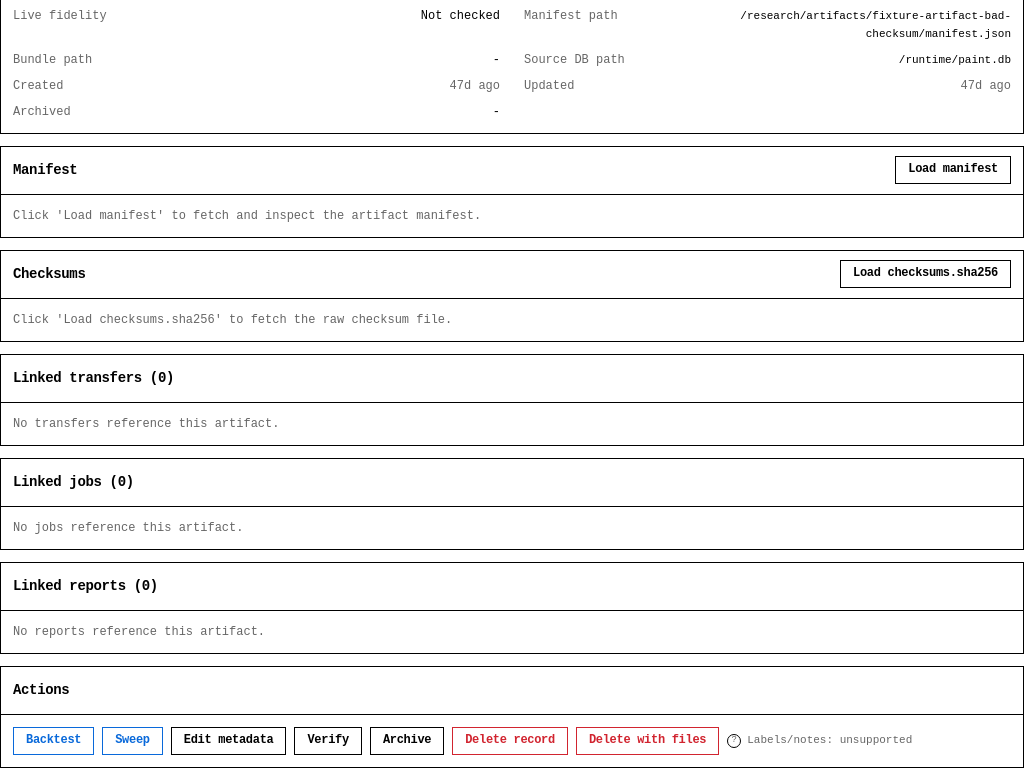
ResearchArtifactDetailPage - bad checksum › requires the artifact id before deleting the metadata record
This screenshot has width=1024, height=768.
(page scrolled)
Step 1. Click the button "Delete record" → {"x": 510, "y": 740}, box [452,726,568,754]
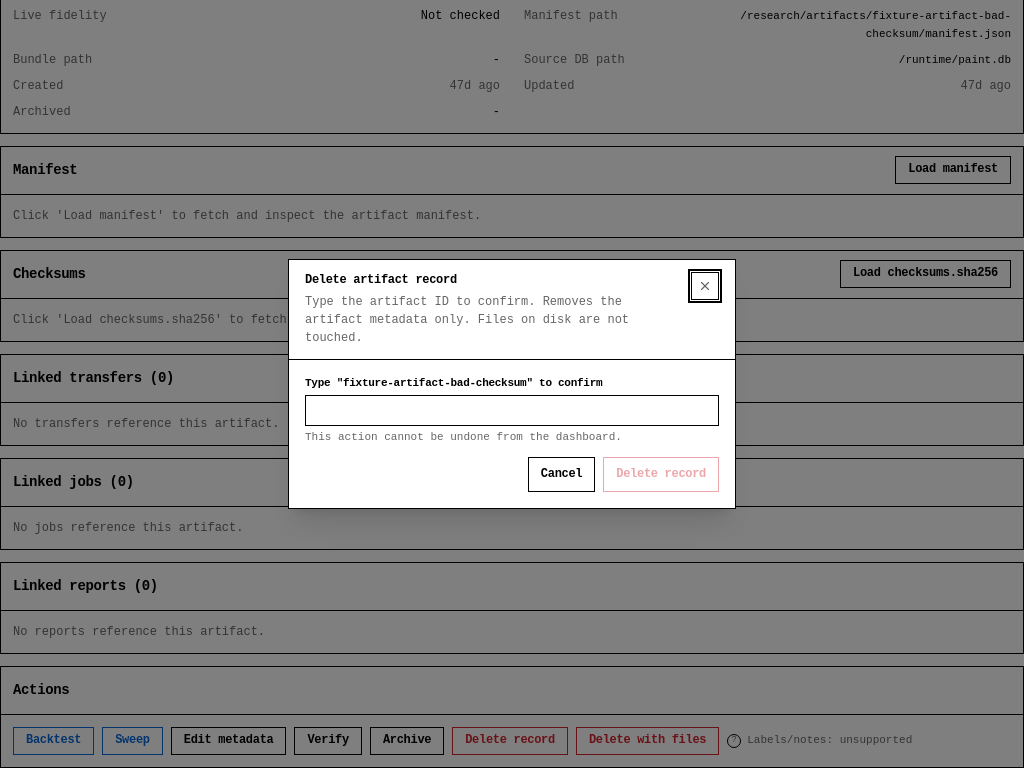
expect the dialog "Delete artifact record" is shown: met, box [288,259,736,509]
expect the button "Delete record" is disabled: met, box [603,457,719,492]
Step 2. Type "fixture-artifact-bad-checksum" into the field labelled "Type \"fixture-artifact-bad-checksum\" to confirm" → {"x": 512, "y": 410}, box [305,395,719,426]
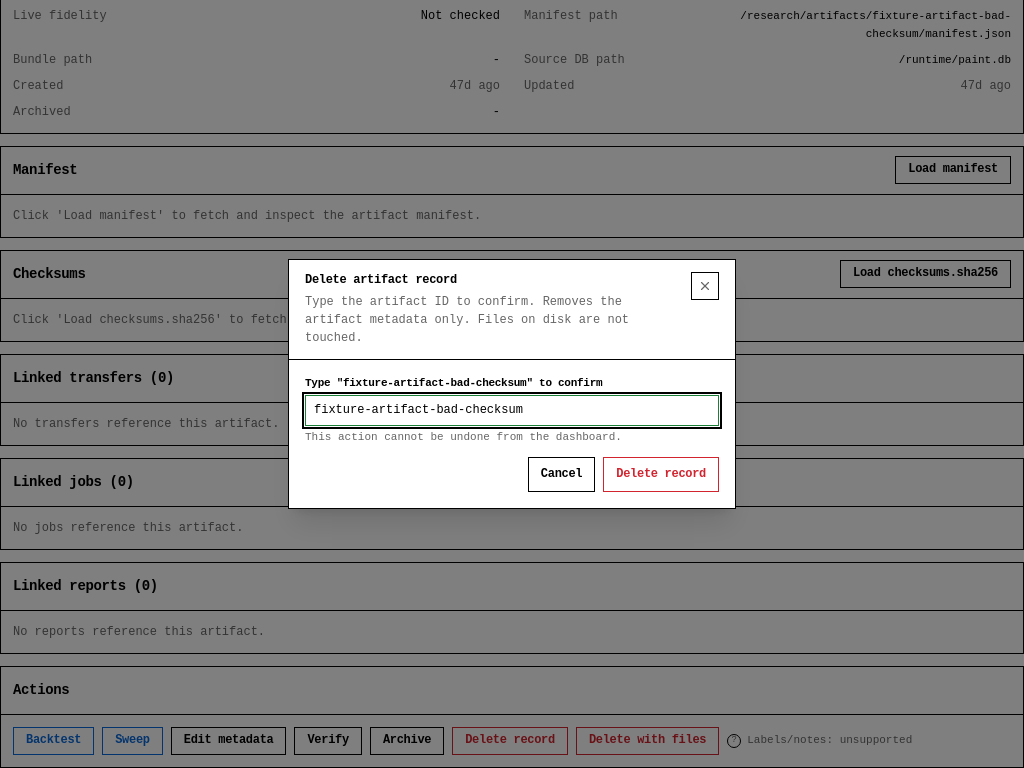
expect the button "Delete record" is enabled: met, box [603,457,719,492]
